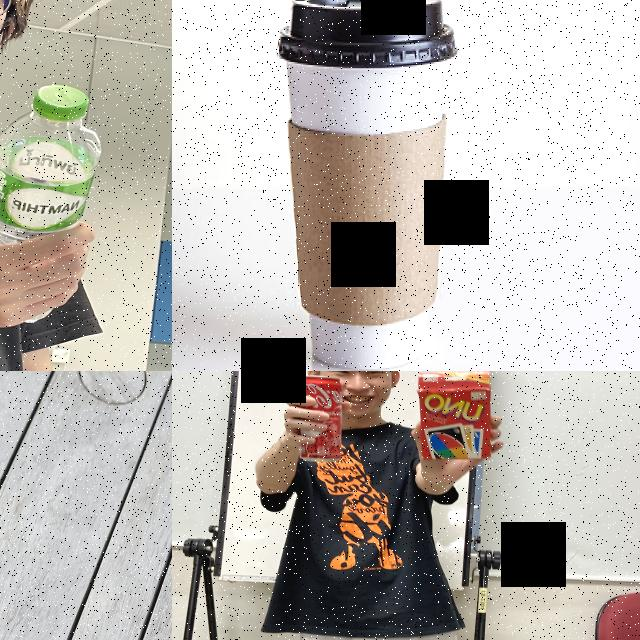bottle: (0, 83, 101, 323)
can: (296, 374, 344, 462)
cup: (274, 0, 460, 371)
